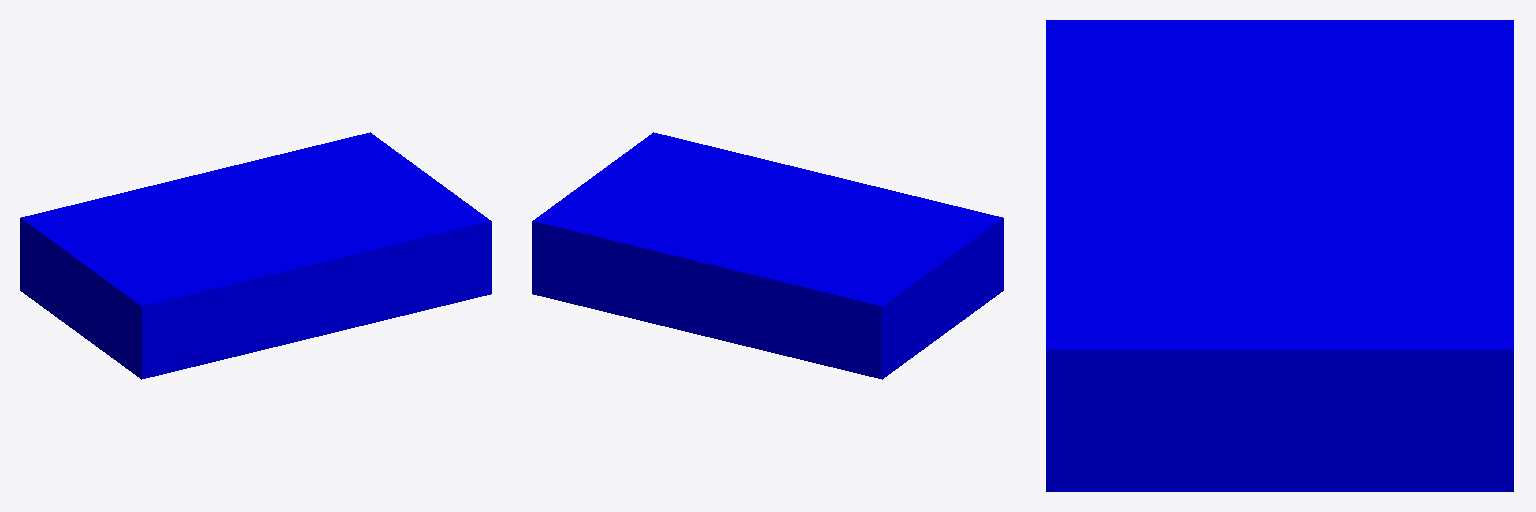
URDF robot description (simple_robot):
<?xml version="1.0"?>
<robot name="simple_robot">

  <link name="base_link">

    <!-- VISUAL -->
    <visual>
      <geometry>
        <box size="0.5 0.3 0.1"/>
      </geometry>
      <material name="blue">
        <color rgba="0 0 1 1"/>
      </material>
    </visual>

    <!-- COLLISION -->
    <collision>
      <geometry>
        <box size="0.5 0.3 0.1"/>
      </geometry>
    </collision>

    <!-- INERTIAL -->
    <inertial>
      <mass value="5.0"/>
      <origin xyz="0 0 0"/>
      <inertia
        ixx="0.1" iyy="0.1" izz="0.1"
        ixy="0.0" ixz="0.0" iyz="0.0"/>
    </inertial>

  </link>

</robot>

--- Render facts (derived) ---
3 views of the same robot in one strip: view 1: azimuth 30°, elevation 25°; view 2: azimuth 150°, elevation 25°; view 3: azimuth 270°, elevation 25° (orthographic).
Robot: simple_robot — 1 links, 0 joints (none); root link base_link; default pose: all joints at 0.
Visible links, largest first — view 1: base_link; view 2: base_link; view 3: base_link.
Link boxes in pixels (bbox=[...]): base_link: bbox=[20, 132, 491, 379]; base_link: bbox=[532, 132, 1003, 379]; base_link: bbox=[1046, 20, 1513, 491].
Size in the robot's own frame: 0.5 by 0.3 by 0.1 metres.
Geometry: primitives only (box / cylinder / sphere), no mesh files.